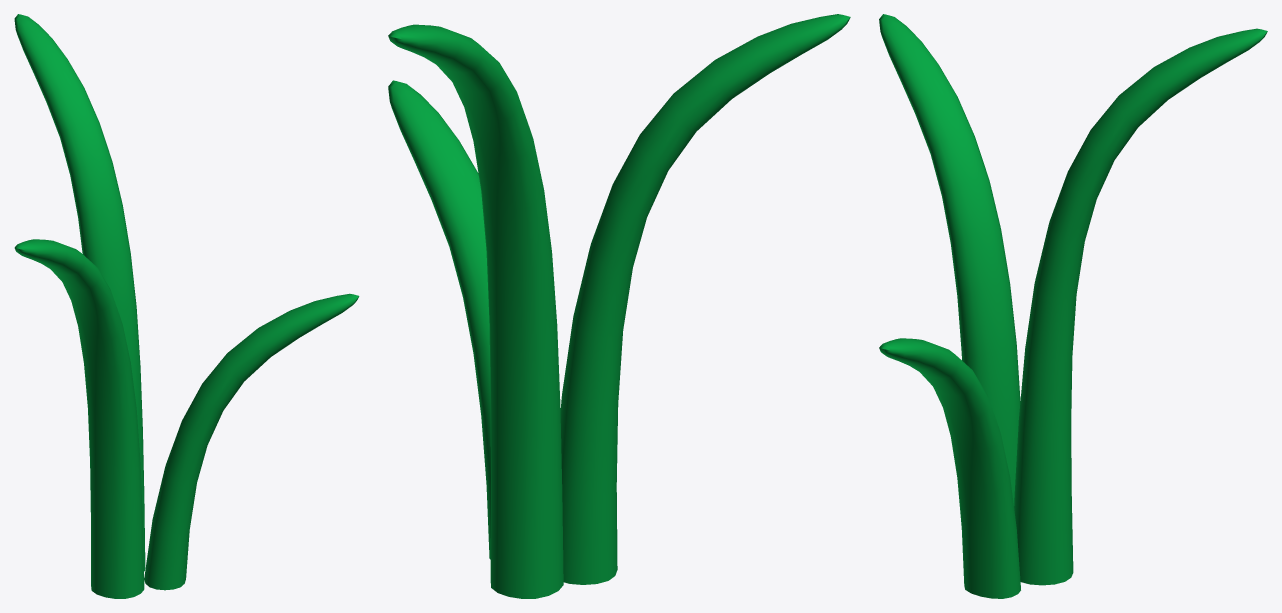
File: Farm_18_Grass_2.glb
3 renders of one model, left to right at view 1: azimuth 30°, elevation 25°; view 2: azimuth 150°, elevation 25°; view 3: azimuth 270°, elevation 25°, orthographic. The views are drawn at different scales.
Parts seen in each view (by area): view 1: Farm_18_Grass_2; view 2: Farm_18_Grass_2; view 3: Farm_18_Grass_2.
Part boxes in pixels (box(x1,y1,x2,y2)): Farm_18_Grass_2: box(14, 14, 359, 598); Farm_18_Grass_2: box(388, 14, 850, 598); Farm_18_Grass_2: box(879, 14, 1267, 598).
Size of the model in its own units: 0.6248 by 0.8455 by 0.5469.
Materials: 1 (1 with a texture image).
